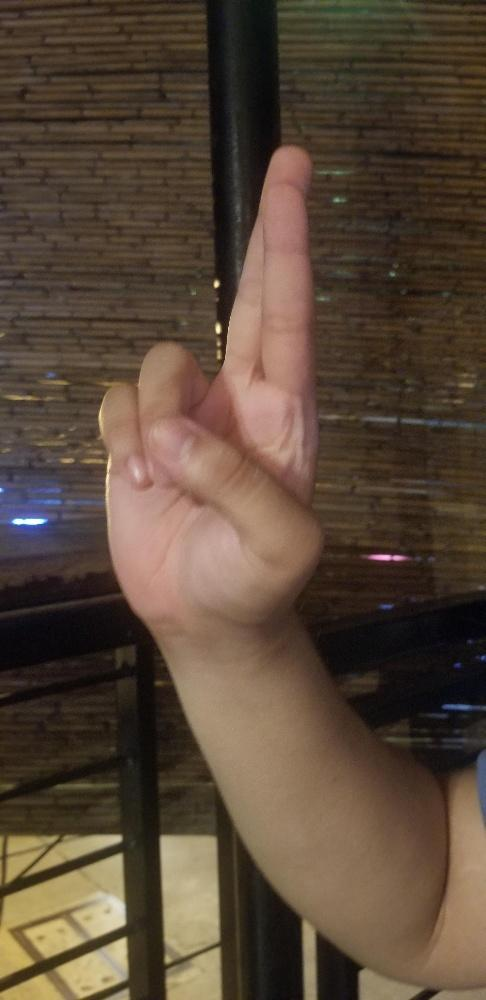r: (95, 141, 325, 617)
